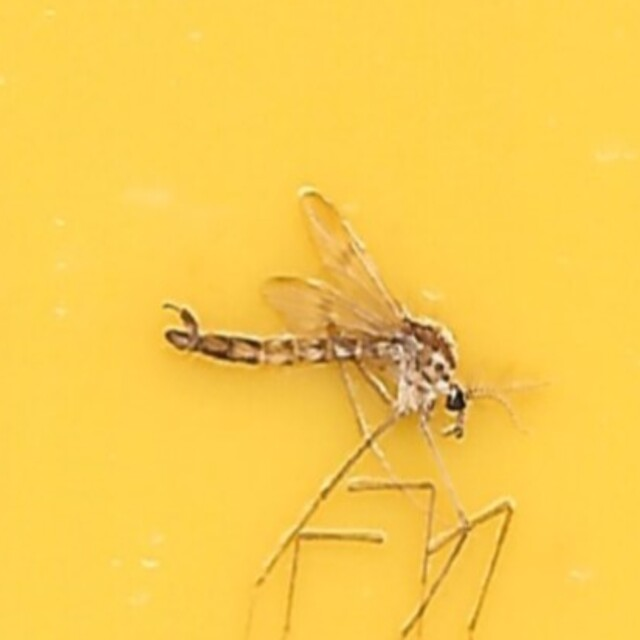Nematocera: (155, 189, 485, 451)
